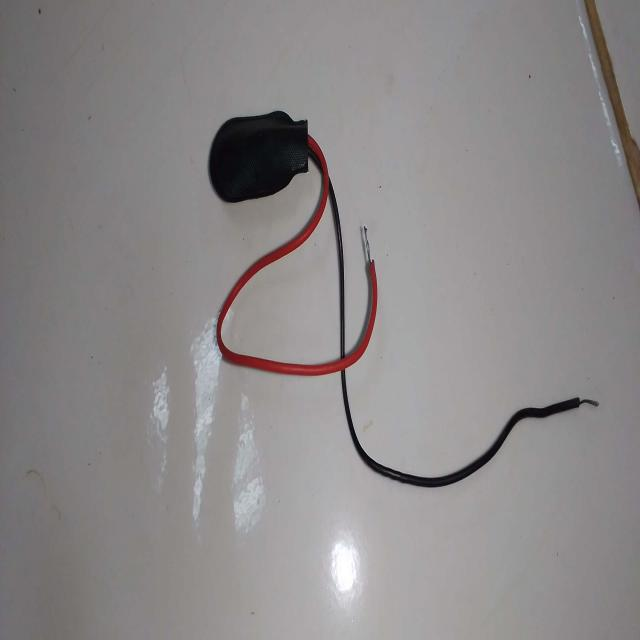Battery Holder: (205, 88, 382, 390)
